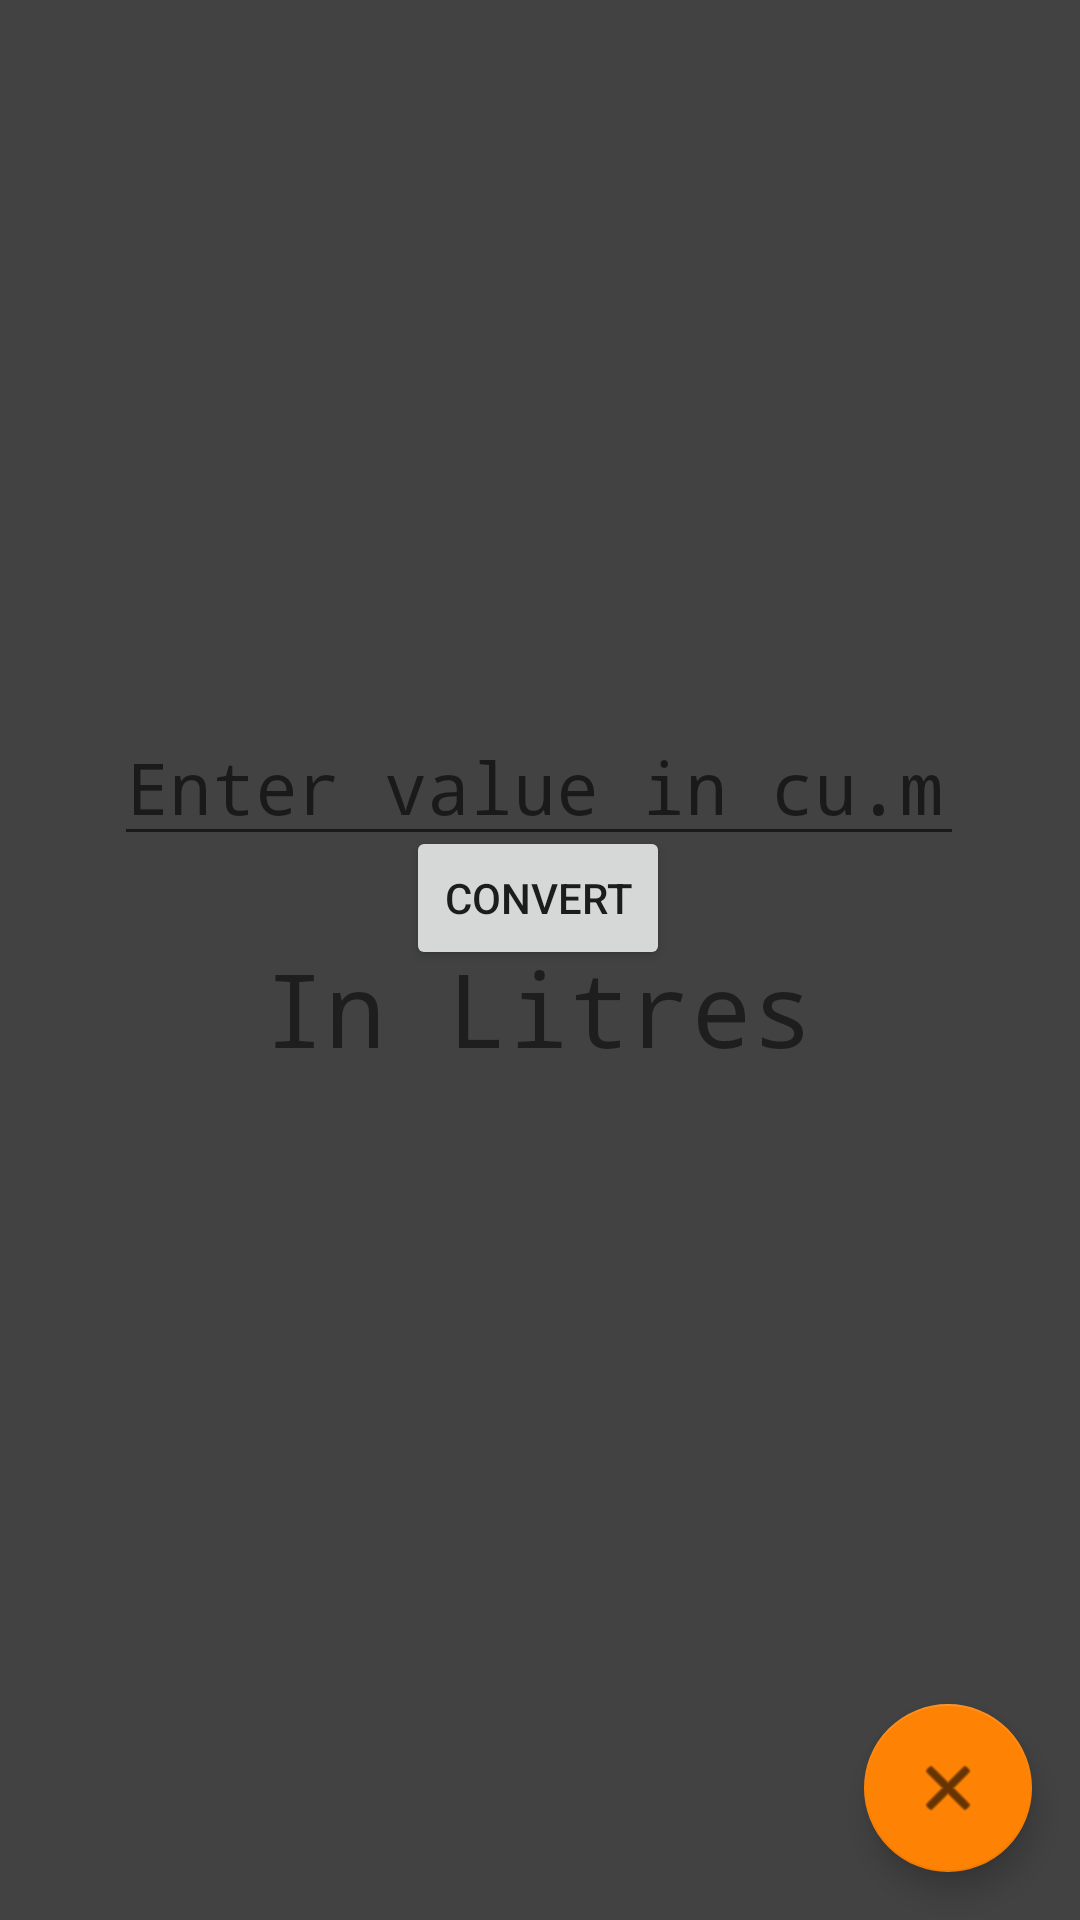

Named icons in this screenshot (1080 x 1920) and their centers, (x,y):
close clear cancel: (948,1788)
